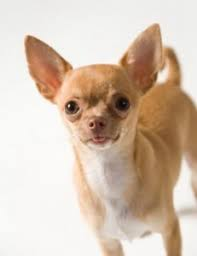chihuahua: (13, 18, 196, 256)
